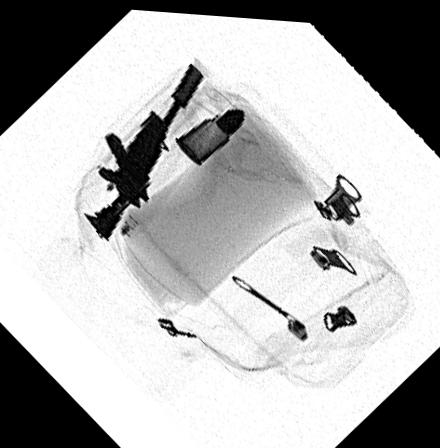Bullet: (174, 106, 246, 163)
Gun: (81, 61, 202, 242)
